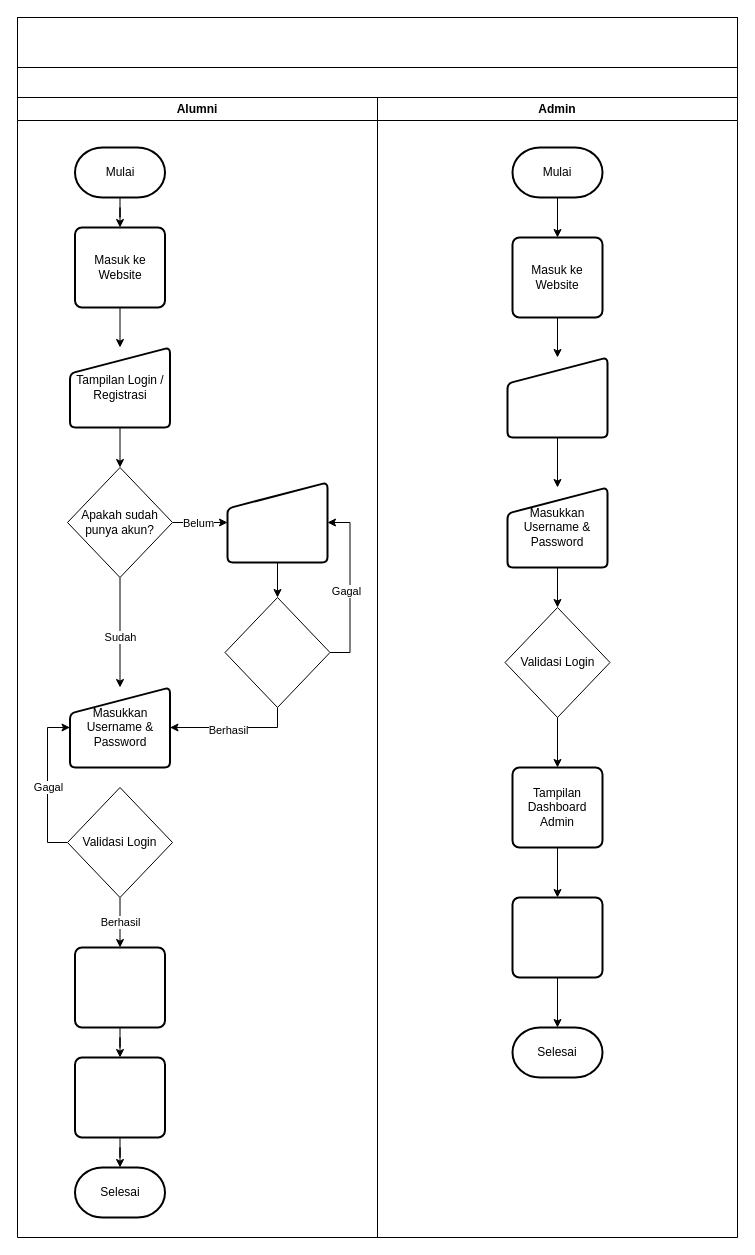
The diagram is 755 pixels wide and 1255 high, and some of its shapes have lost their labels. The centre of each missing label's shape, as x and y in pixels:
Flowchart Sistem Informasi Alumni: point 377,42
Isi Form Registrasi: point 277,522
Kelola Data Alumni (CRUD): point 557,937
Kelompok 6: point 377,82
Lihat / Update Data Pribadi: point 120,1097
Tampilan Dashboard Alumni: point 120,987
Tampilan Login Admin: point 557,397
Validasi Registrasi: point 277,652
